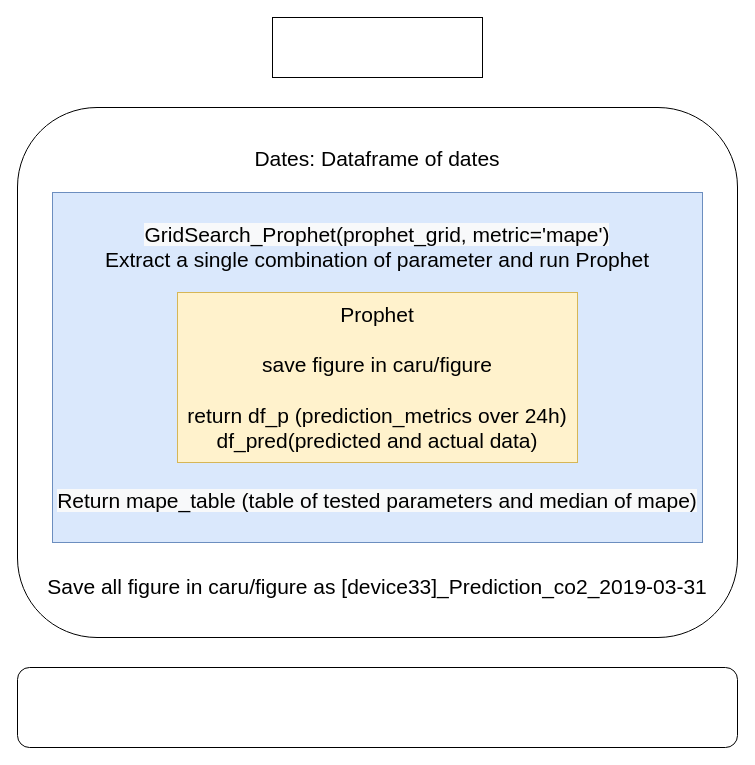
The diagram is 755 pixels wide and 765 high, and some of its shapes have lost their labels. The shapes that lost their labels are listed below. From the top down, each one's centre as x and y in pixels, then its label:
At point 377,47: "Device nuber".
At point 377,707: "Save all figure in caru/figure as [device33]_Prediction_co2_2019-03-31".
